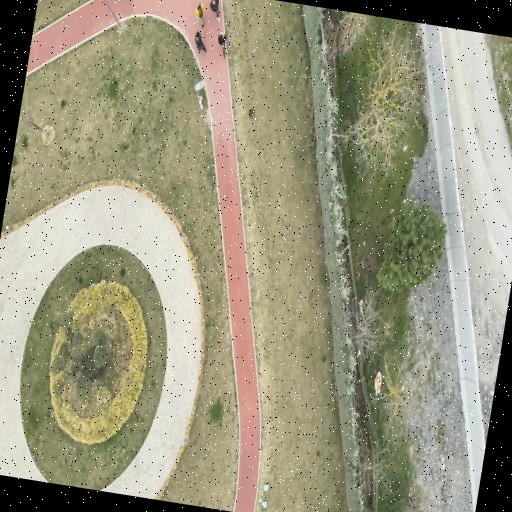person: (209, 0, 219, 21), (195, 2, 203, 27), (217, 32, 225, 57), (194, 32, 204, 51)
